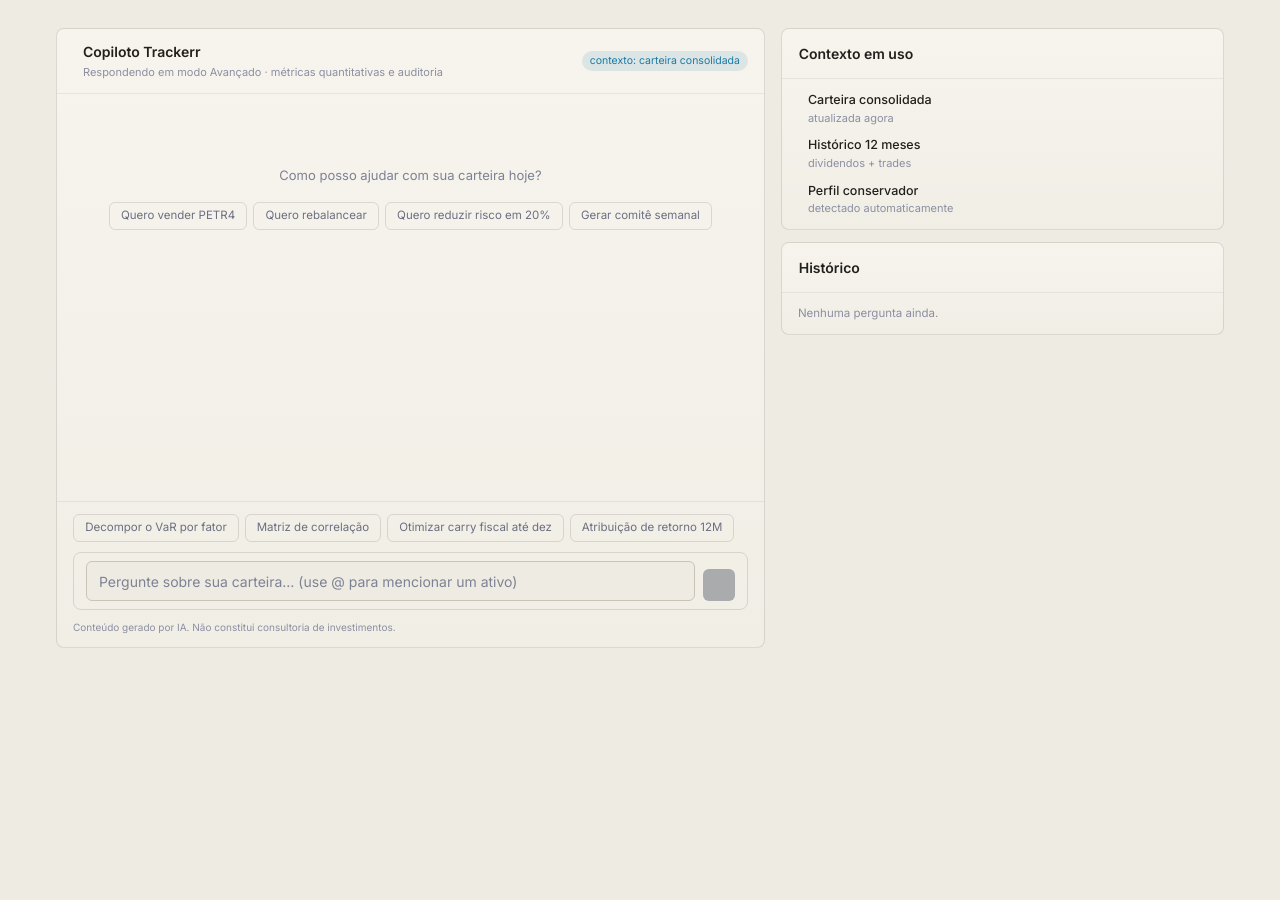
it: ChatInteligente › supports retry flow when chat request fails
In the field named "Pergunta do chat": {"x": 390, "y": 581} x1=86 y1=561 x2=695 y2=601, type "Resumo da carteira"
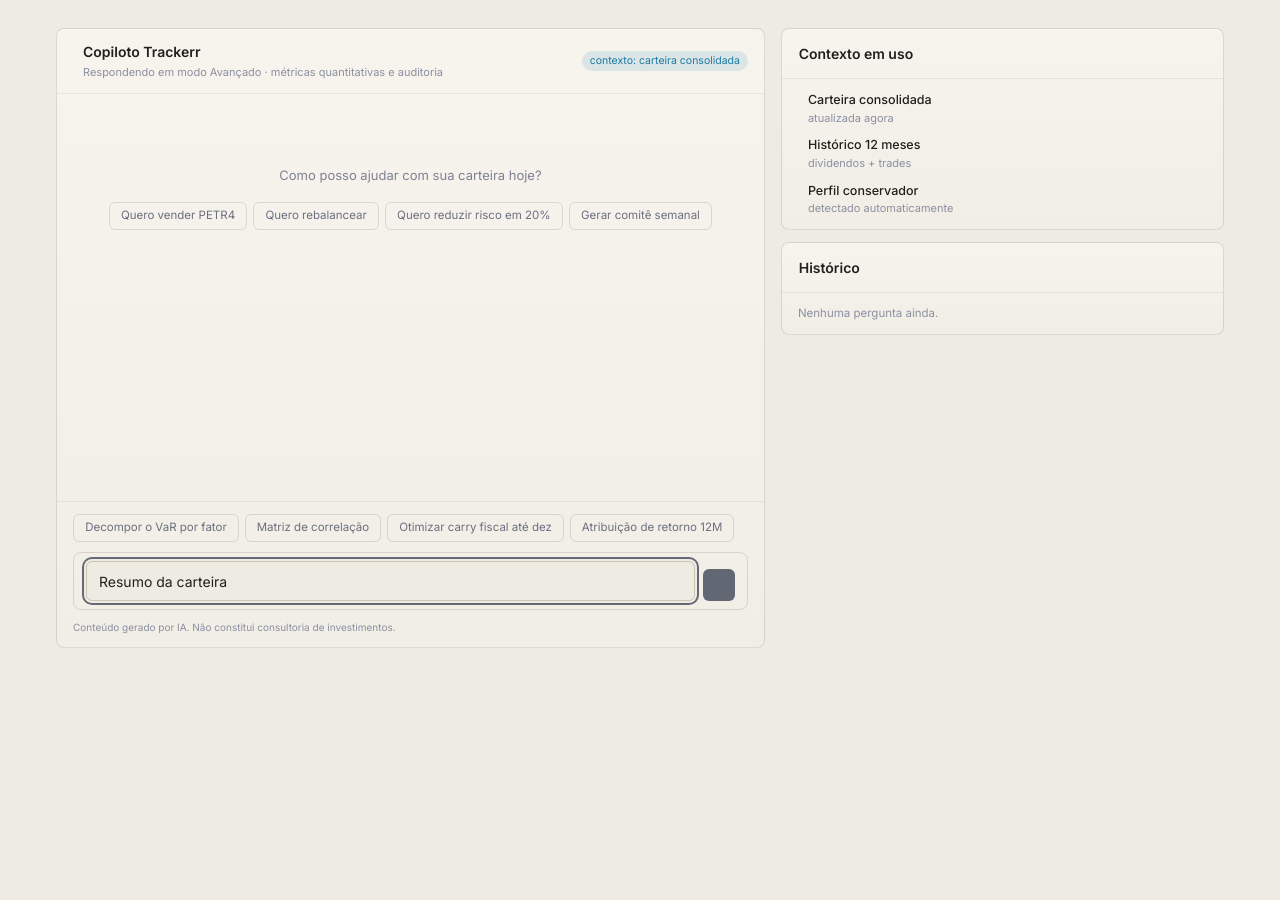
Click the button named "Enviar": {"x": 719, "y": 585} x1=703 y1=569 x2=735 y2=601
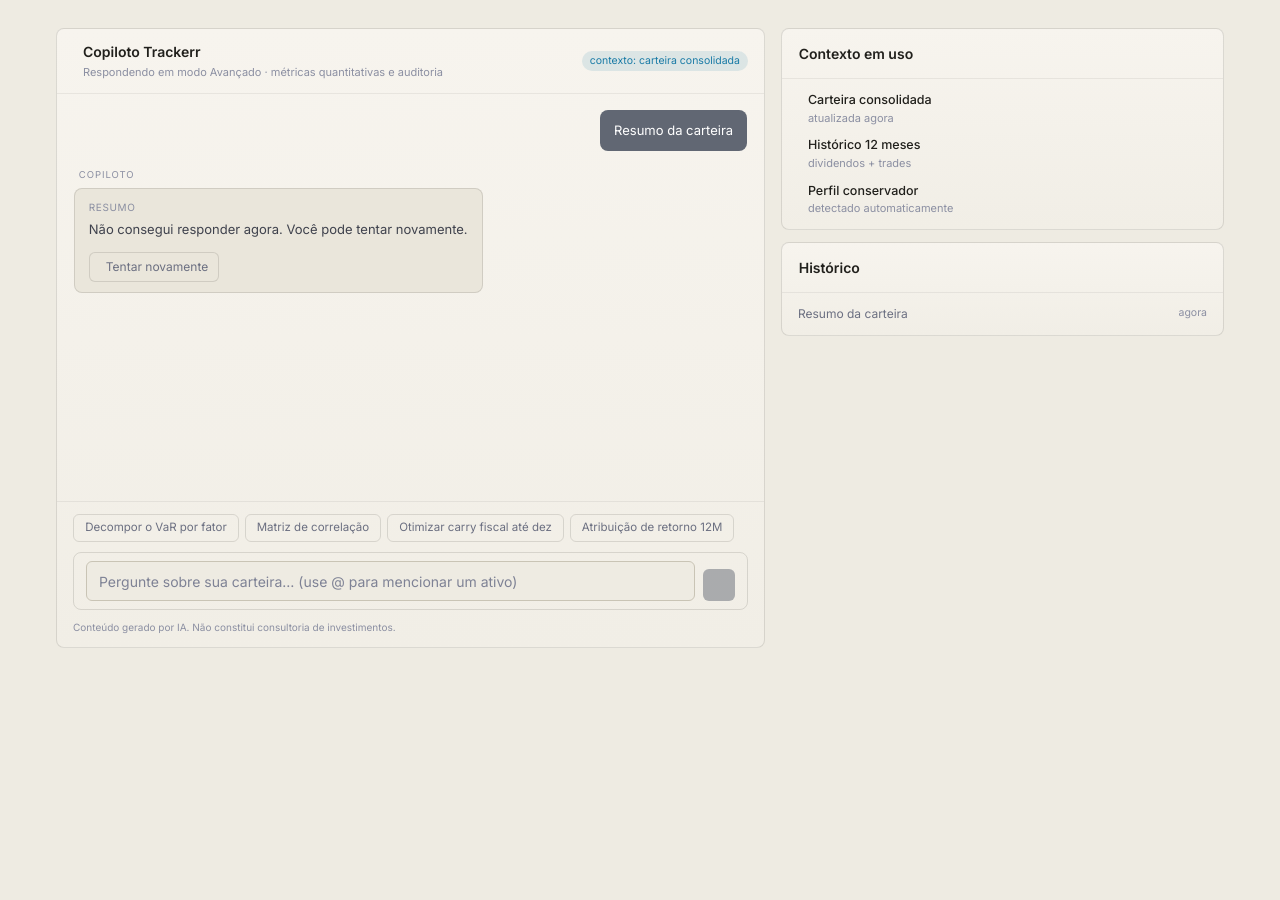
Expected: the button "Tentar novamente" is shown
Click the button "Tentar novamente": {"x": 154, "y": 267} x1=89 y1=252 x2=219 y2=282
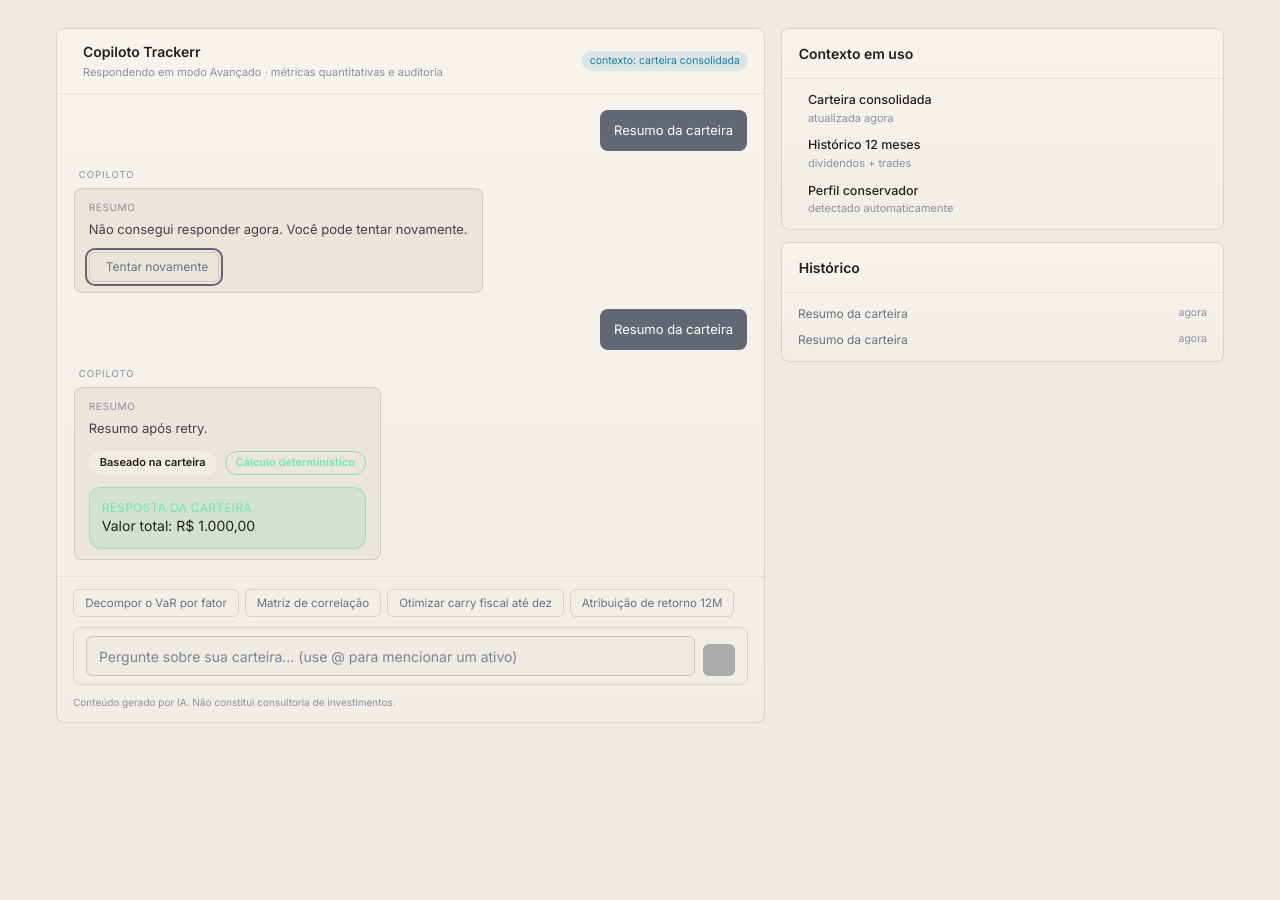
Expected: the text "Resumo após retry." is shown, x1=89 y1=420 x2=208 y2=436
